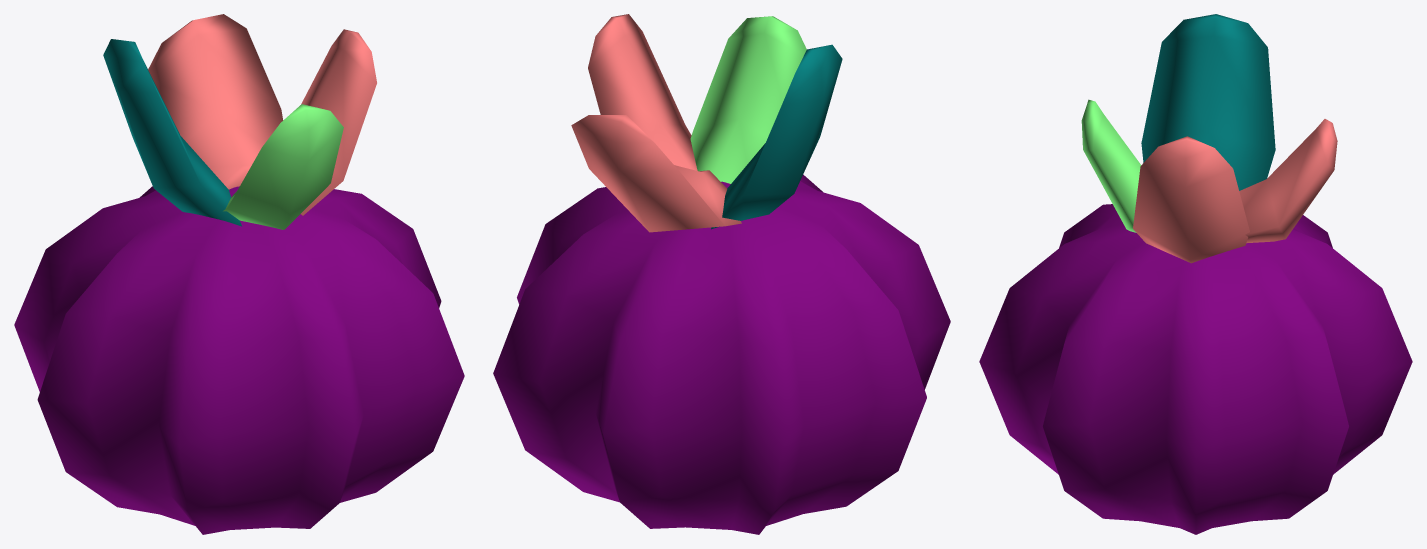
File: Cactus07.fbx
3 views of the same model, side by side, from view 1: azimuth 30°, elevation 25°; view 2: azimuth 150°, elevation 25°; view 3: azimuth 270°, elevation 25° (orthographic). The views are drawn at different scales.
Visible parts, largest first — view 1: Low_Cactus07; view 2: Low_Cactus07; view 3: Low_Cactus07.
Part boxes in pixels (bbox=[...]): Low_Cactus07: bbox=[14, 14, 464, 534]; Low_Cactus07: bbox=[493, 14, 950, 534]; Low_Cactus07: bbox=[979, 14, 1412, 534].
Bounding box in the file's own units: 299 × 345 × 299.
